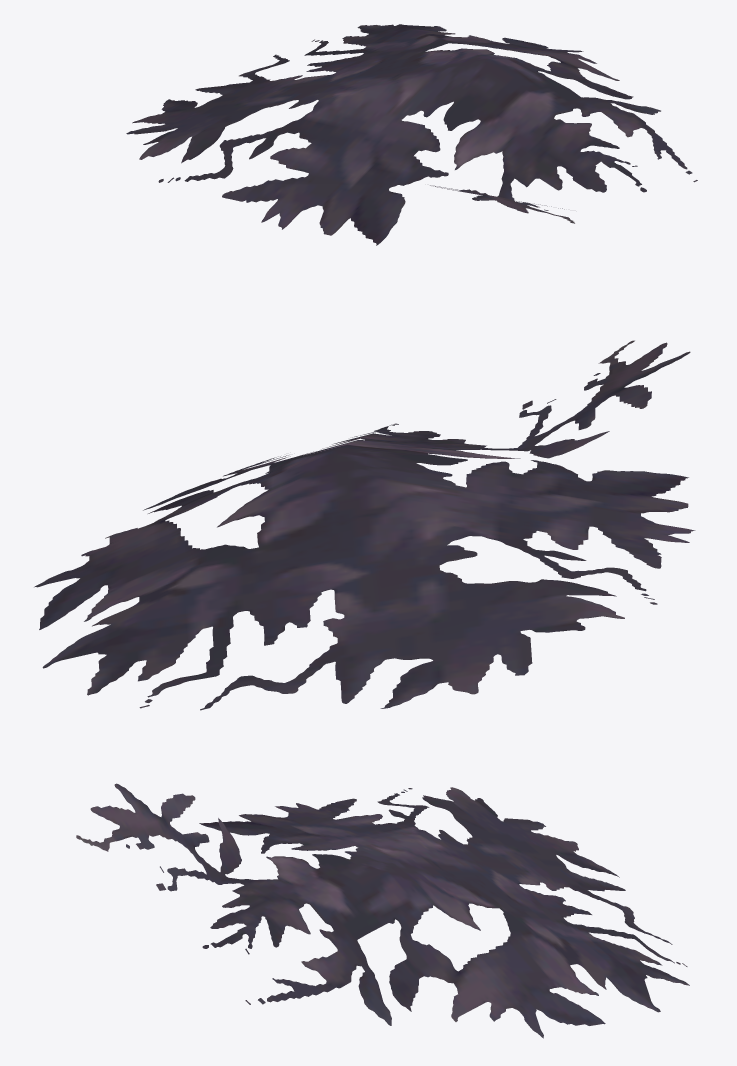
Rendered from yw_shanlin_treeleaves_022.FBX.
3 views of the same model, one above another, from view 1: azimuth 30°, elevation 25°; view 2: azimuth 150°, elevation 25°; view 3: azimuth 270°, elevation 25° (orthographic). The views are drawn at different scales.
Visible parts, largest first — view 1: yw_shanlin_treeleaves_022; view 2: yw_shanlin_treeleaves_022; view 3: yw_shanlin_treeleaves_022.
Part boxes in pixels (bbox=[...]): yw_shanlin_treeleaves_022: bbox=[126, 24, 697, 245]; yw_shanlin_treeleaves_022: bbox=[34, 340, 695, 710]; yw_shanlin_treeleaves_022: bbox=[76, 783, 689, 1038].
Bounding box in the file's own units: 308 × 69.85 × 359.
